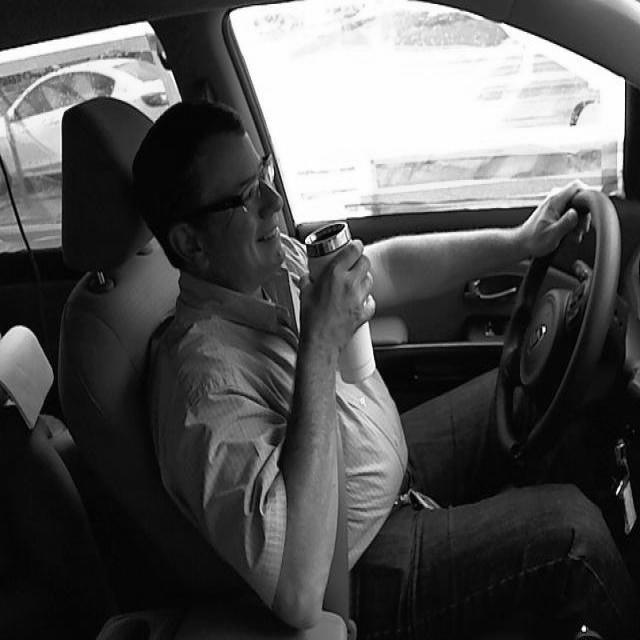Drinking: (126, 89, 397, 431)
